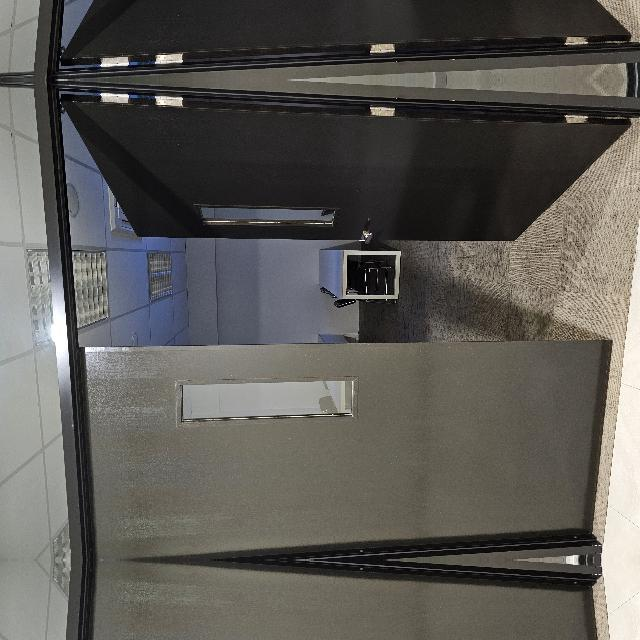door: (0, 158, 216, 640), (308, 130, 471, 640), (0, 414, 216, 640), (308, 408, 471, 640), (308, 0, 471, 30), (0, 0, 216, 1)
